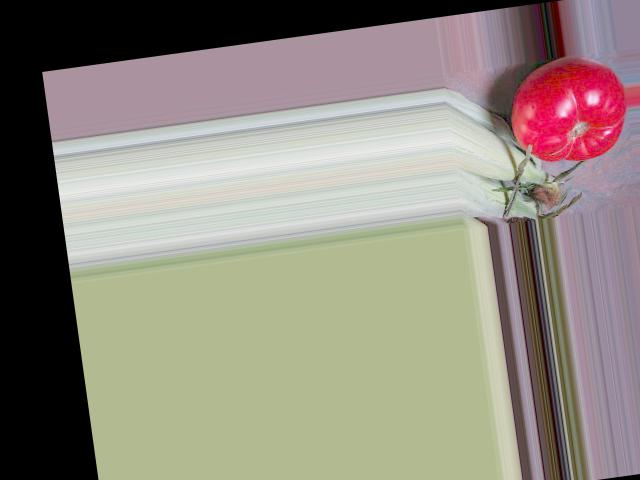tomato: (503, 49, 632, 169)
